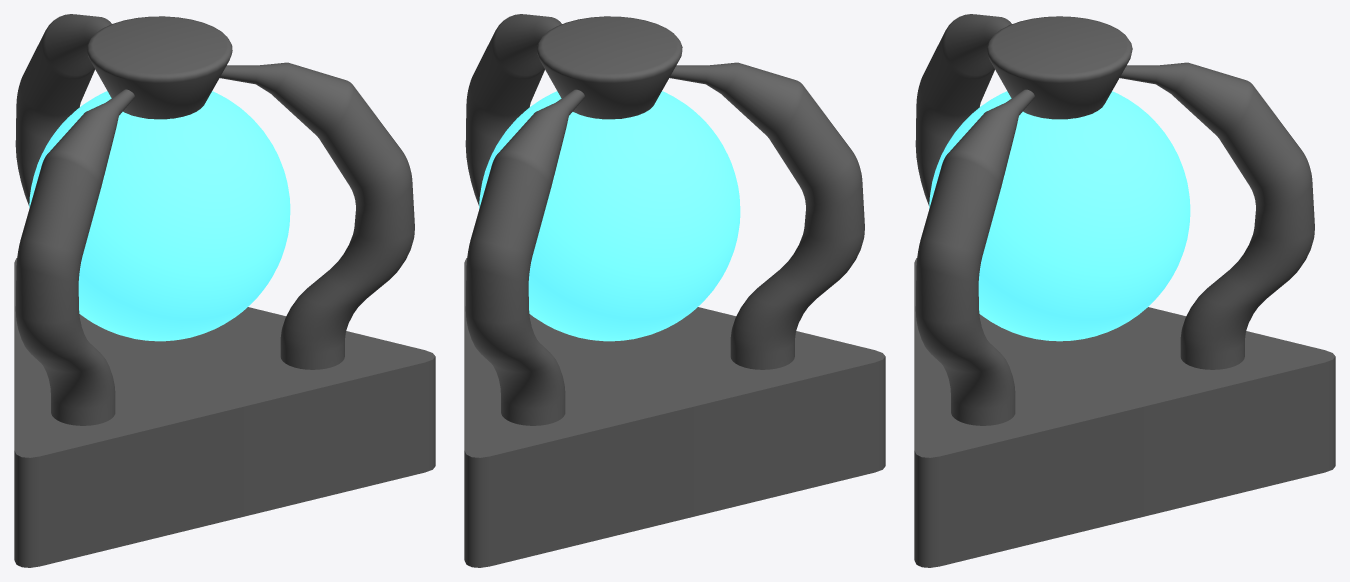
Rendered from powerup.fbx.
3 renders of one model, left to right at view 1: azimuth 30°, elevation 25°; view 2: azimuth 150°, elevation 25°; view 3: azimuth 270°, elevation 25°, orthographic.
Parts seen in each view (by area): view 1: Cylinder.001, Cylinder, Cube, Cone; view 2: Cylinder.001, Cylinder, Cube, Cone; view 3: Cylinder.001, Cylinder, Cube, Cone.
Boxes of the visible parts, left/top/right/bottom form: Cylinder.001: left=14, top=258, right=435, bottom=567; Cylinder: left=15, top=14, right=414, bottom=425; Cube: left=29, top=91, right=290, bottom=341; Cone: left=87, top=16, right=232, bottom=119; Cylinder.001: left=464, top=258, right=885, bottom=567; Cylinder: left=465, top=14, right=864, bottom=425; Cube: left=479, top=91, right=740, bottom=341; Cone: left=537, top=16, right=682, bottom=119; Cylinder.001: left=914, top=258, right=1335, bottom=567; Cylinder: left=915, top=14, right=1314, bottom=425; Cube: left=929, top=91, right=1190, bottom=341; Cone: left=987, top=16, right=1132, bottom=119.
Bounding box in the file's own units: 1492 × 1441 × 1306.
